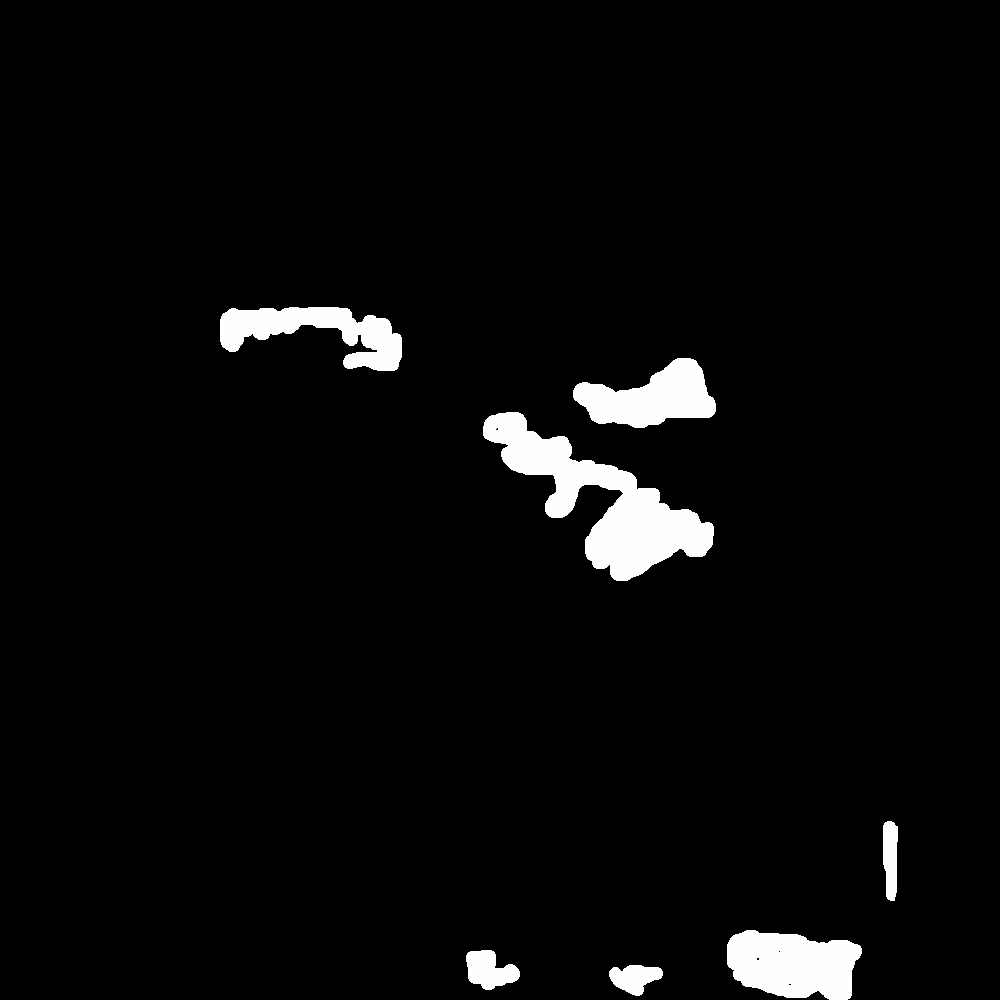illegal: (489, 412, 713, 586), (226, 314, 404, 371), (722, 929, 864, 1000), (576, 362, 711, 423), (465, 946, 524, 993), (615, 959, 668, 985)
